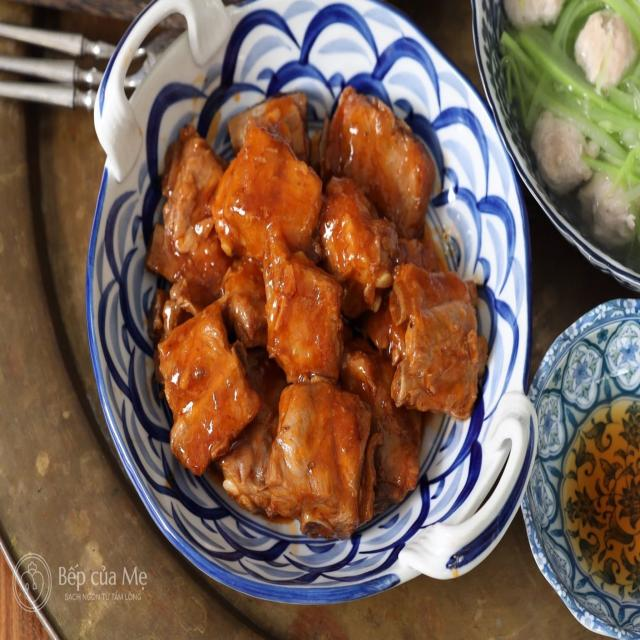suon xao: (148, 87, 488, 537)
